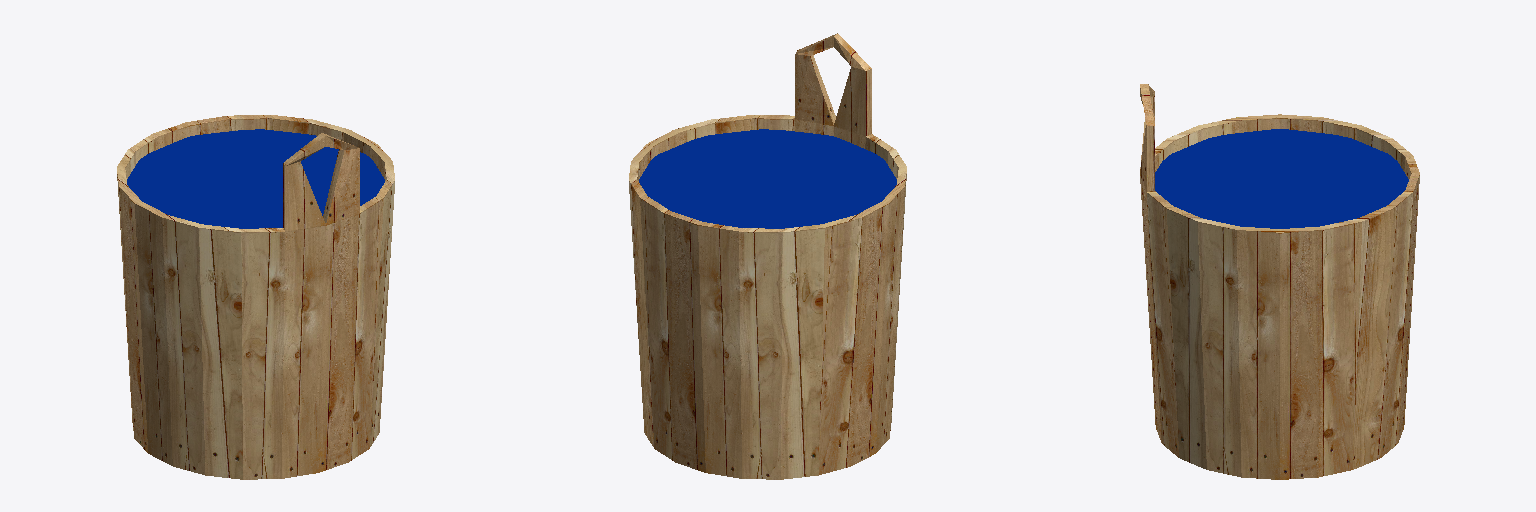
The picture shows the model from 3 angles: view 1: azimuth 30°, elevation 25°; view 2: azimuth 150°, elevation 25°; view 3: azimuth 270°, elevation 25°; orthographic projection.
Visible parts, largest first — view 1: kiulu_Cylinder, vesi_Cylinder.001; view 2: kiulu_Cylinder, vesi_Cylinder.001; view 3: kiulu_Cylinder, vesi_Cylinder.001.
Boxes of the visible parts, <box> form: kiulu_Cylinder: <box>117,115,394,479</box>; vesi_Cylinder.001: <box>127,129,384,228</box>; kiulu_Cylinder: <box>629,33,906,479</box>; vesi_Cylinder.001: <box>639,129,896,228</box>; kiulu_Cylinder: <box>1140,84,1419,479</box>; vesi_Cylinder.001: <box>1155,129,1408,228</box>.
Bounding box in the file's own units: 5.98 × 8.08 × 5.98.
Materials: 2 (1 with a texture image).